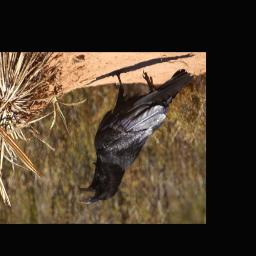Crow: (79, 69, 195, 204)
